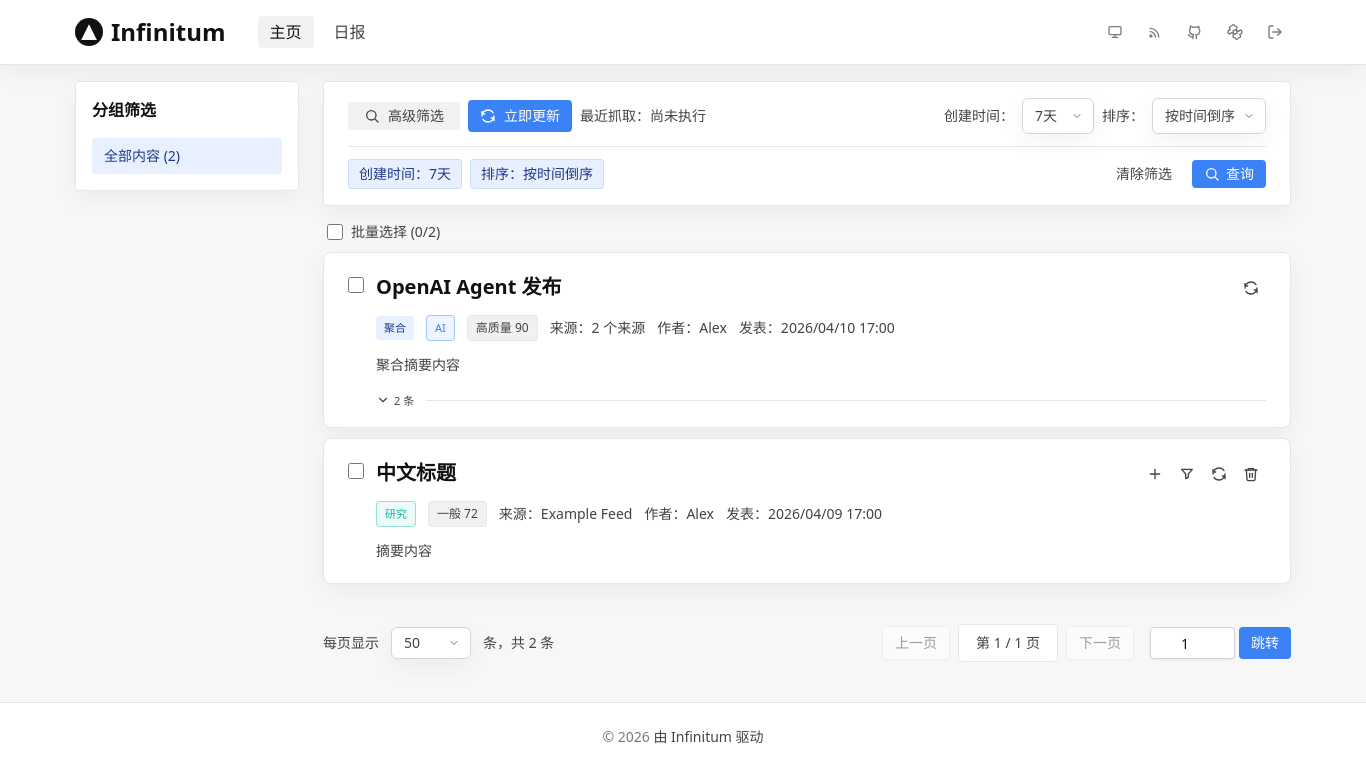
Test case: FeedPanel › shows a confirmation dialog before deleting a homepage card
Click the button named "删除内容：中文标题" at (1251, 474), box left=1236, top=459, right=1266, bottom=489
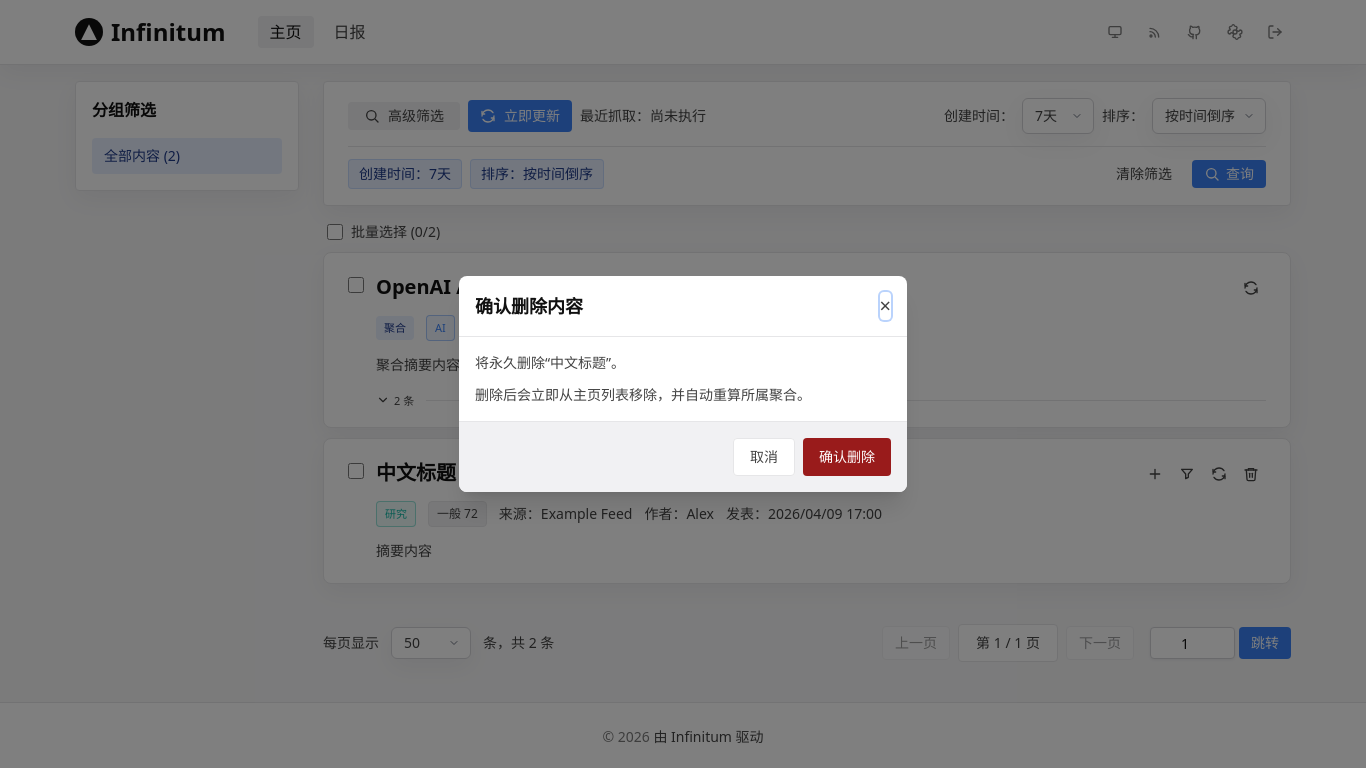
Expected: the text "删除后会立即从主页列表移除，并自动重算所属聚合。" is shown, left=475, top=385, right=811, bottom=404
Click the button "确认删除" at (847, 457), box left=803, top=438, right=891, bottom=476
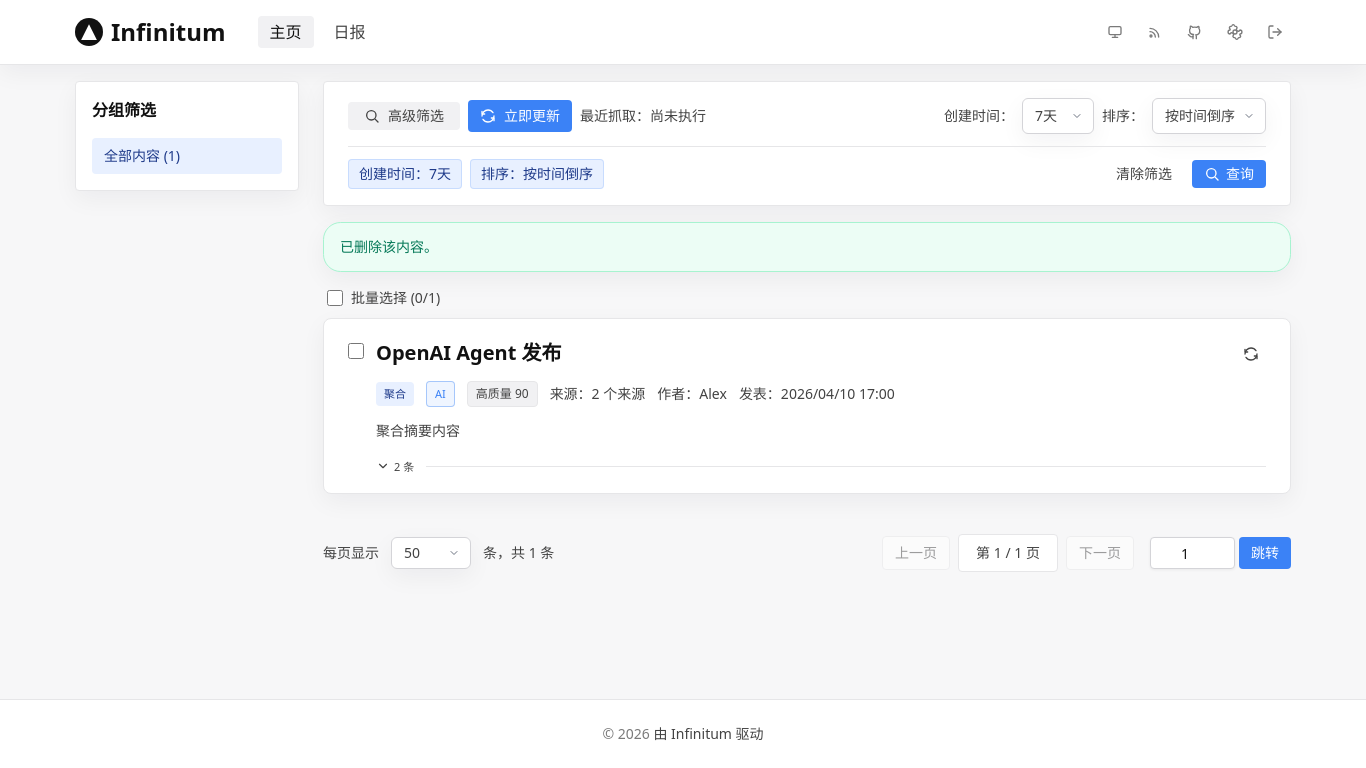
Expected: the text "已删除该内容。" is shown, left=323, top=222, right=1291, bottom=272
Expected: the link "中文标题" is gone
